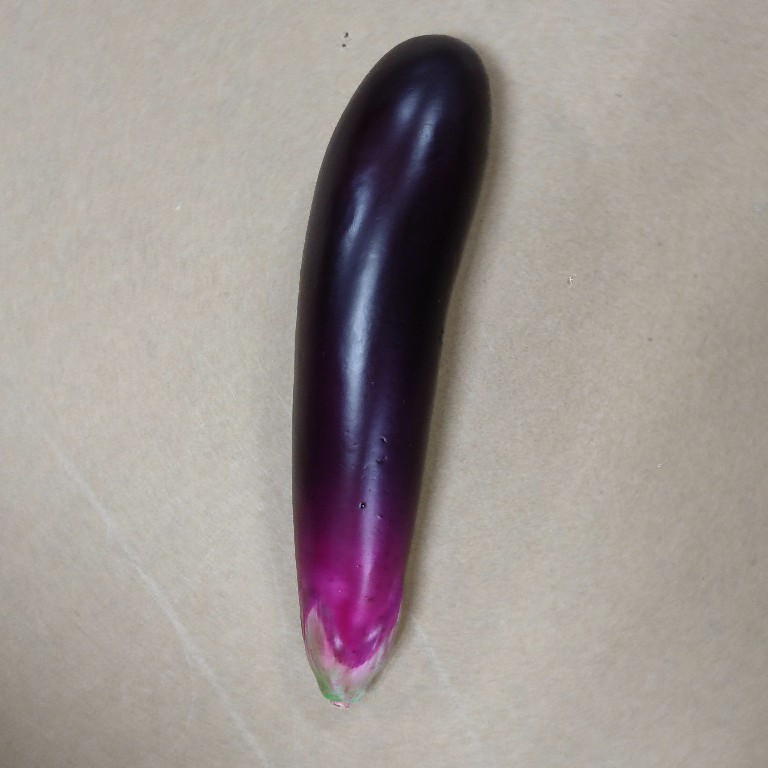fruit_eggplant: (288, 32, 494, 712)
